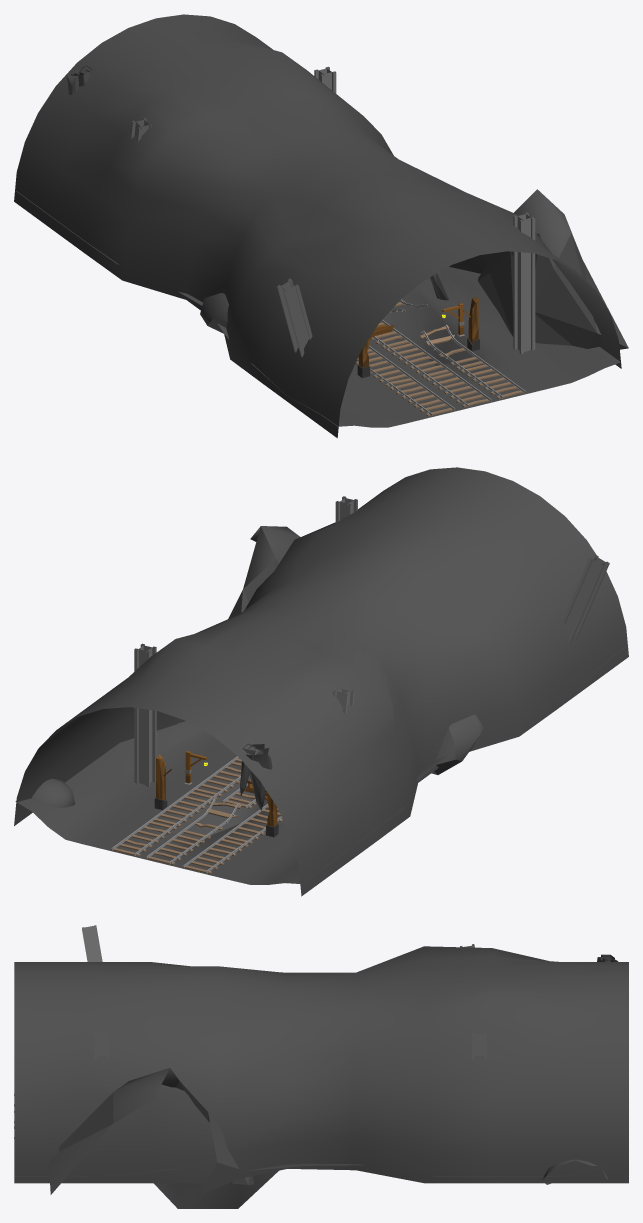
The model's file is Modulo V1 Obstaculos 3.fbx.
3 views of the same model, one above another, from view 1: azimuth 30°, elevation 25°; view 2: azimuth 150°, elevation 25°; view 3: azimuth 270°, elevation 25° (orthographic). The views are drawn at different scales.
Parts seen in each view (by area): view 1: Cube.024; view 2: Cube.024; view 3: Cube.024.
Part boxes in pixels (bbox=[...]): Cube.024: bbox=[14, 14, 628, 438]; Cube.024: bbox=[14, 467, 628, 896]; Cube.024: bbox=[14, 925, 628, 1208].
Bounding box in the file's own units: 2794 × 1866 × 4762.
